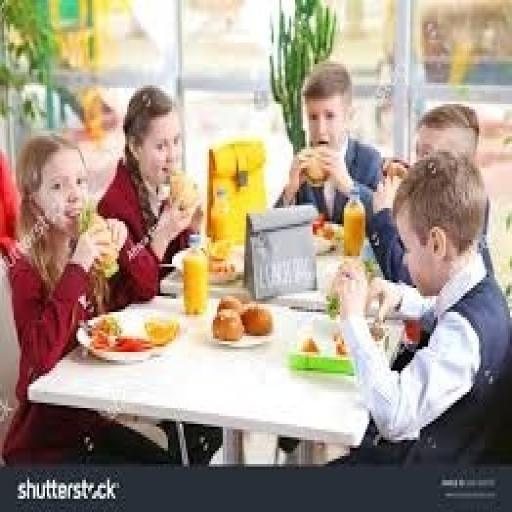eating: (330, 147, 510, 464), (272, 59, 387, 237)
